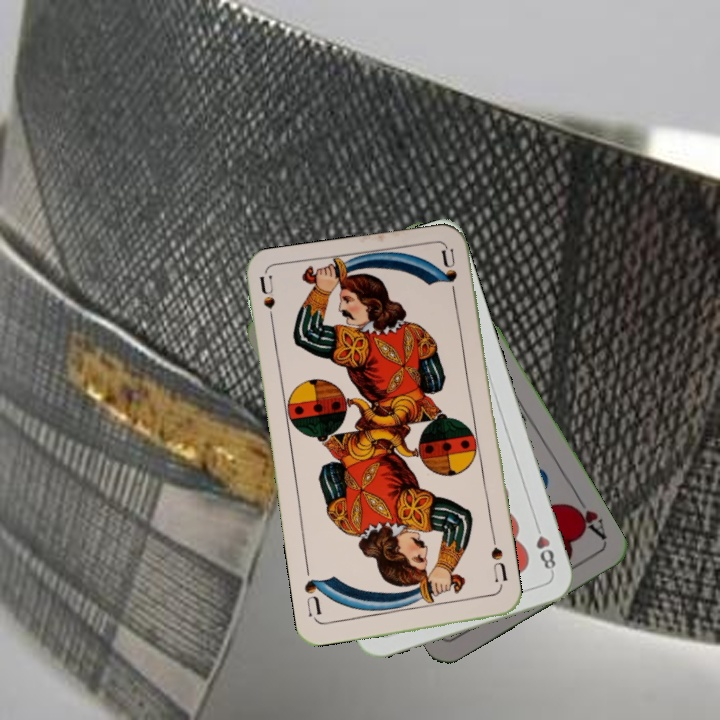H8: (530, 518, 558, 576)
HA: (564, 491, 610, 543)
SU: (256, 273, 278, 333), (487, 534, 510, 585)
